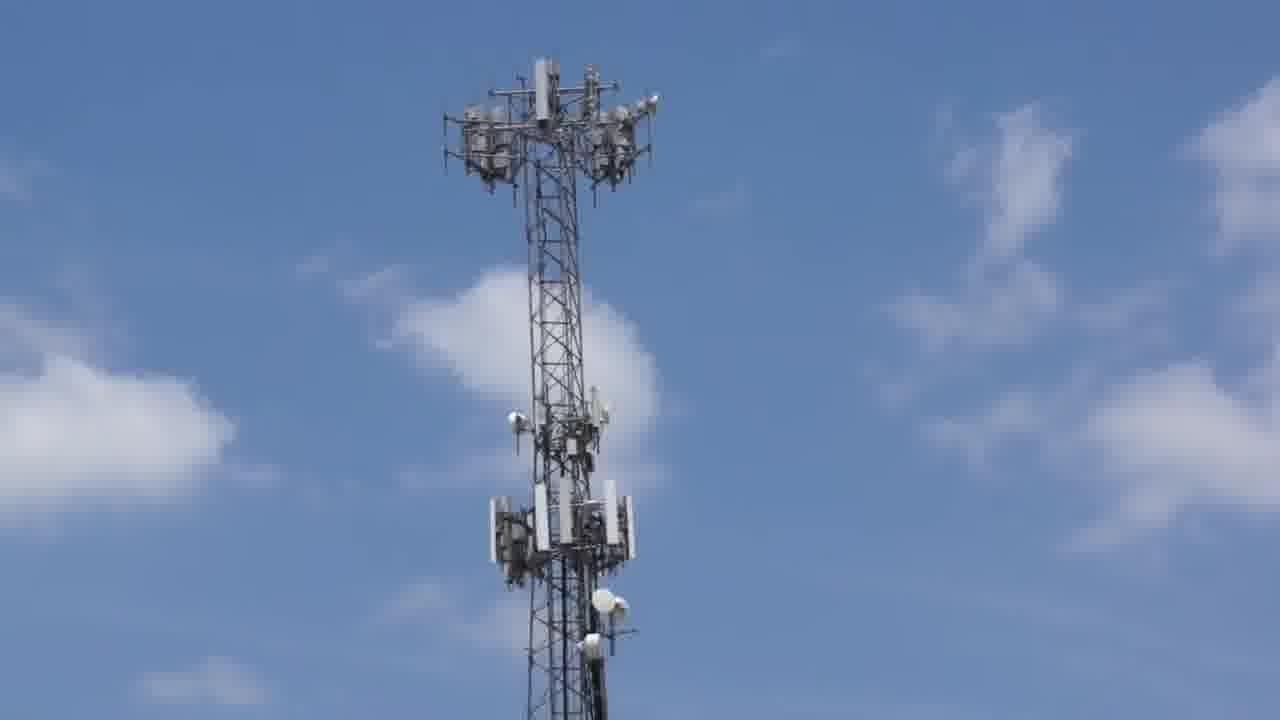Microwave Antenna: (637, 89, 668, 119), (573, 633, 607, 660), (505, 407, 528, 440), (591, 587, 615, 612), (610, 593, 633, 619), (600, 403, 619, 430)
antenna: (484, 490, 515, 578), (618, 481, 643, 569), (527, 476, 554, 557), (596, 478, 620, 563), (553, 473, 578, 549), (530, 52, 550, 127)
